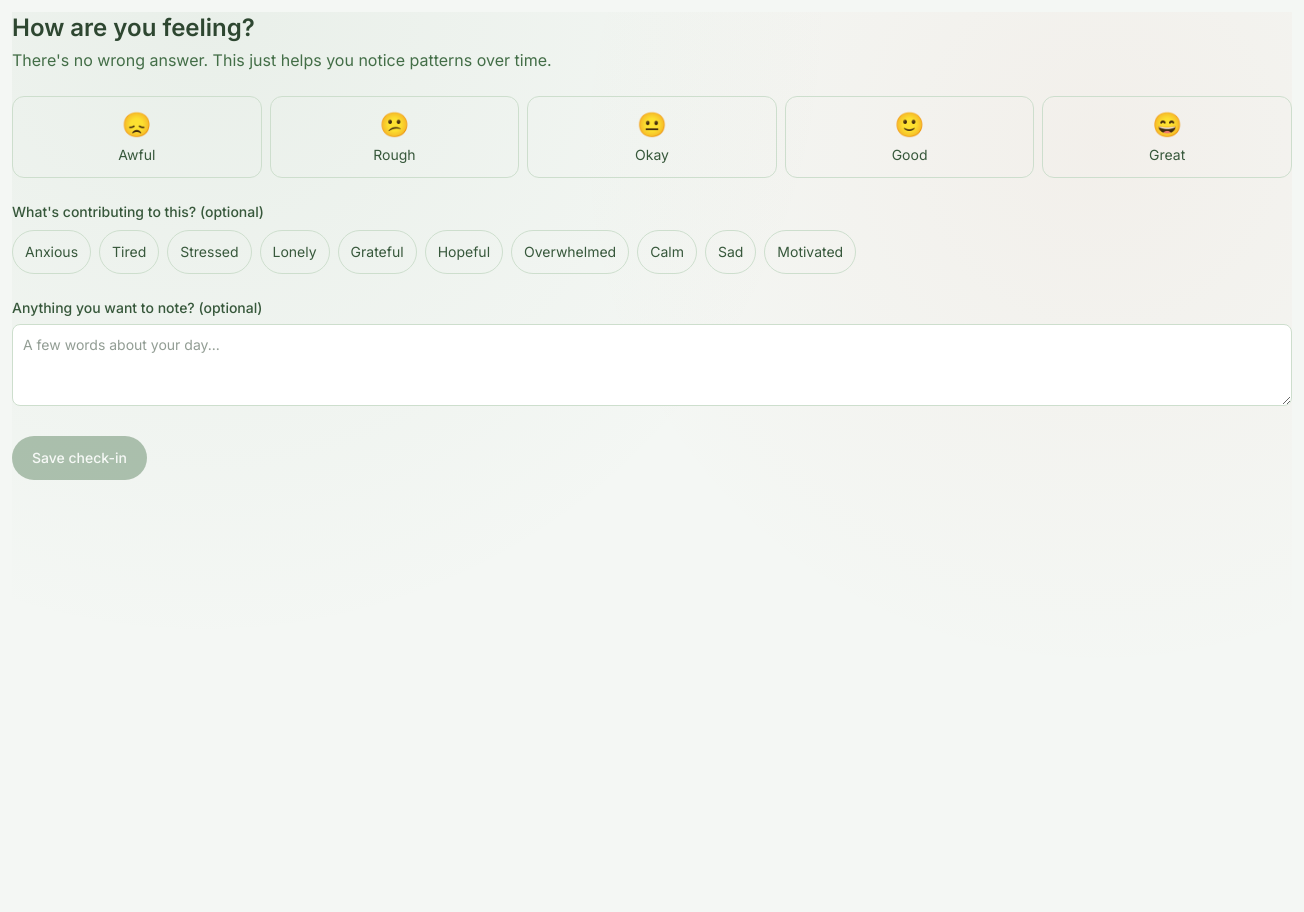
Scenario: CheckIn page › clears the form after saving so another check-in can be logged
The image size is (1304, 912).
Click the radio button labelled "🙂 Good": (910, 137) 785,96 -> 1034,178
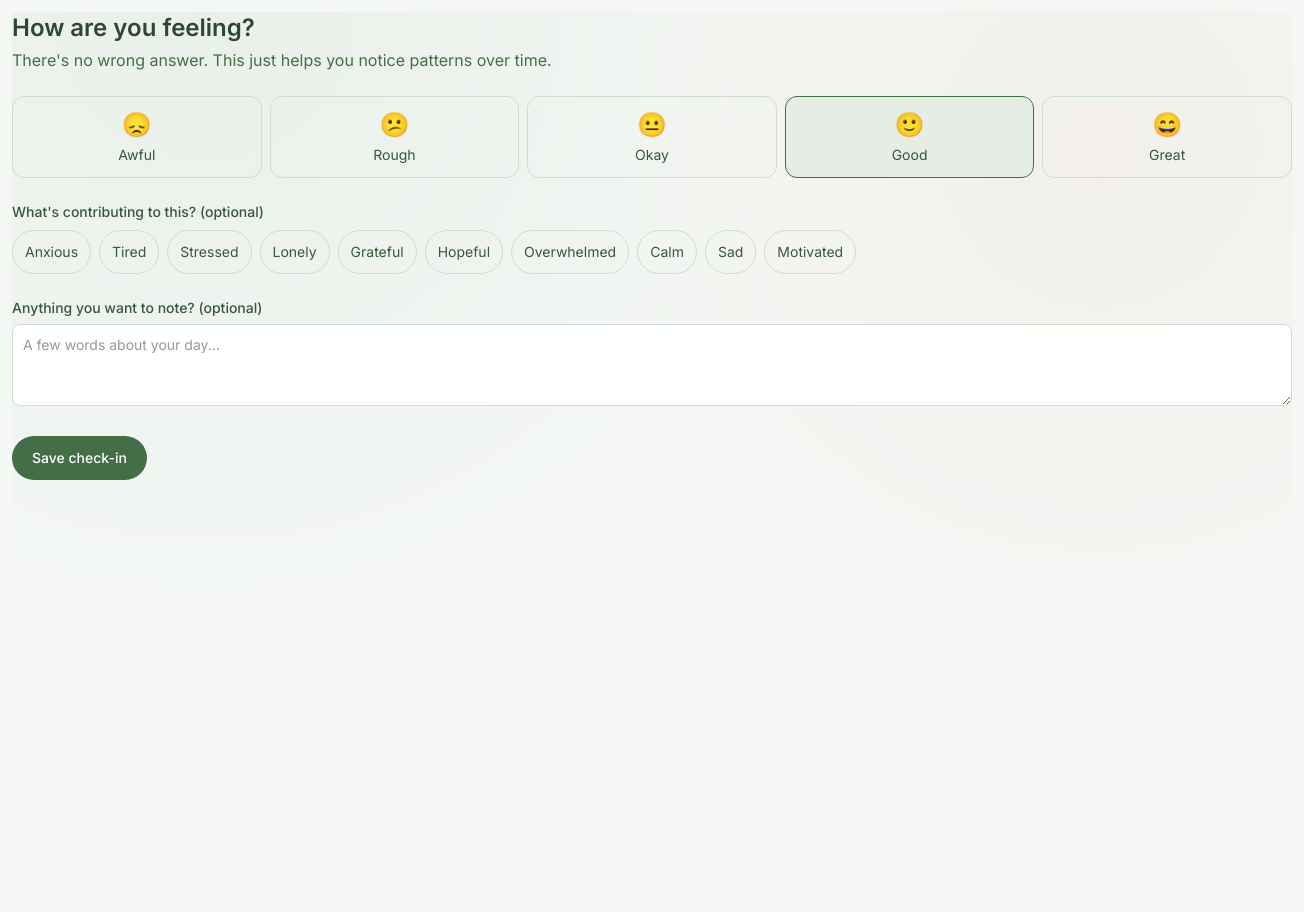
Click the button "calm": (667, 252) 637,230 -> 697,274
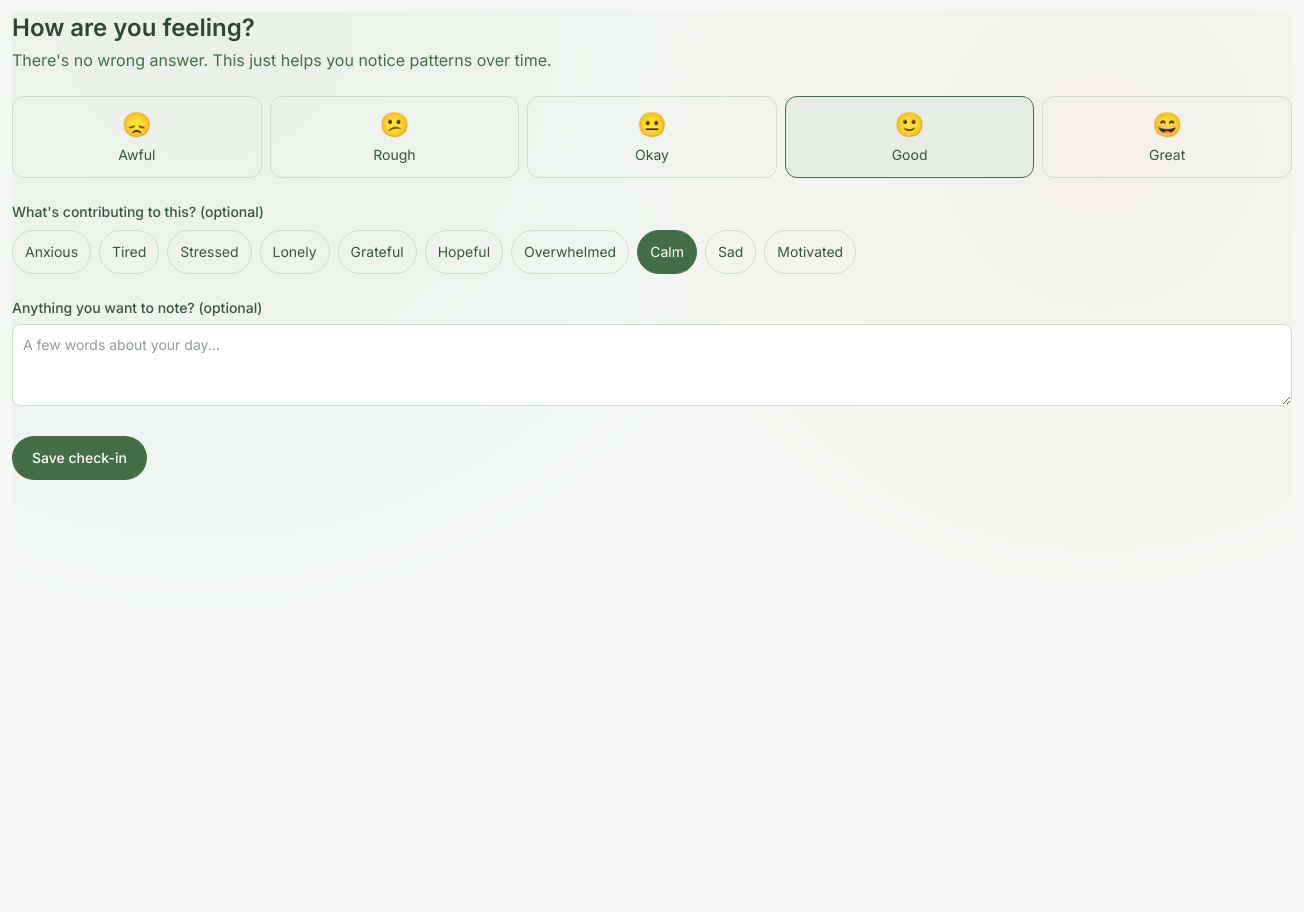
Click the button "Save check-in": (79, 458) 12,436 -> 147,480
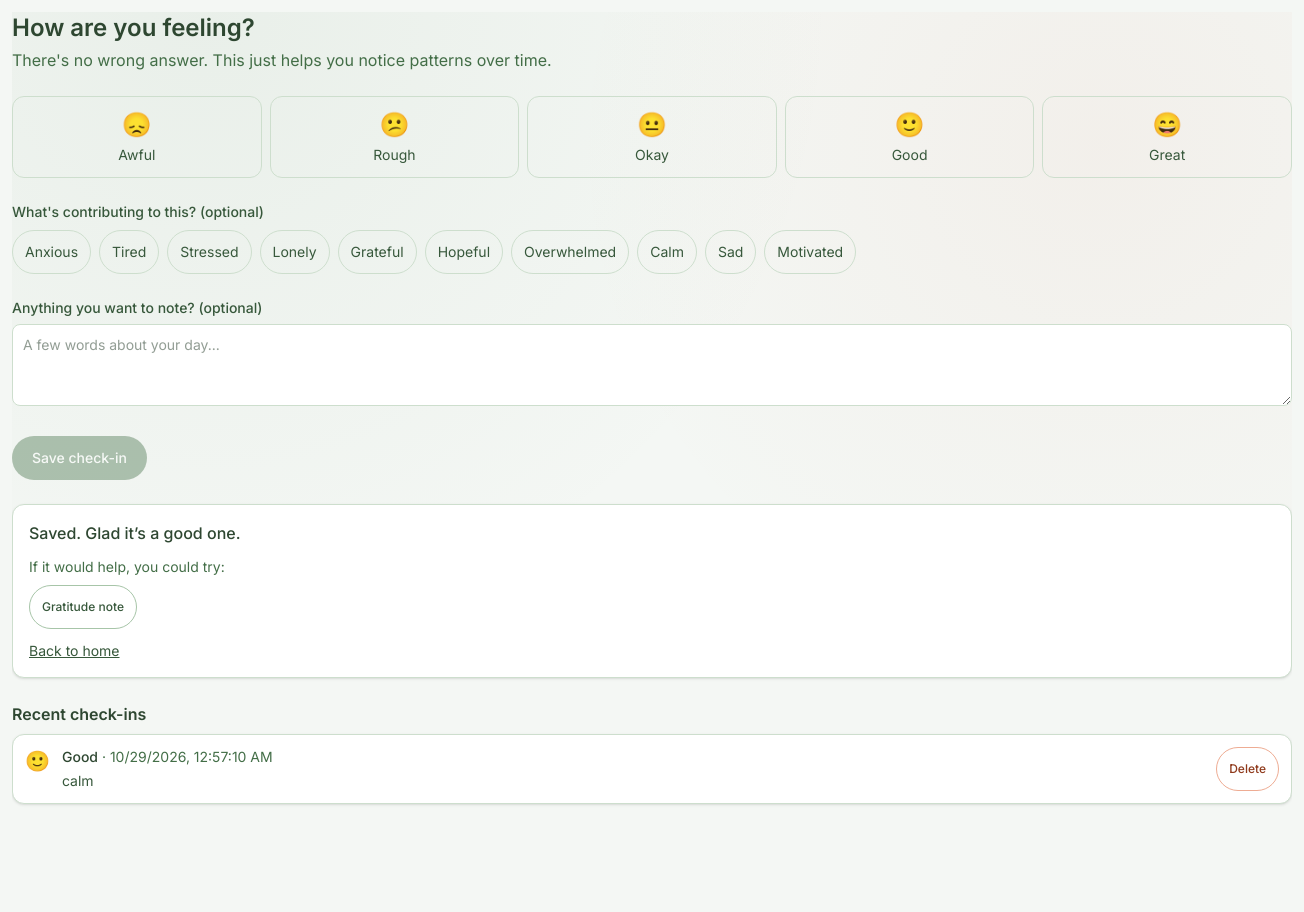
Check: the button "Save check-in" is disabled, box 12,436 -> 147,480
